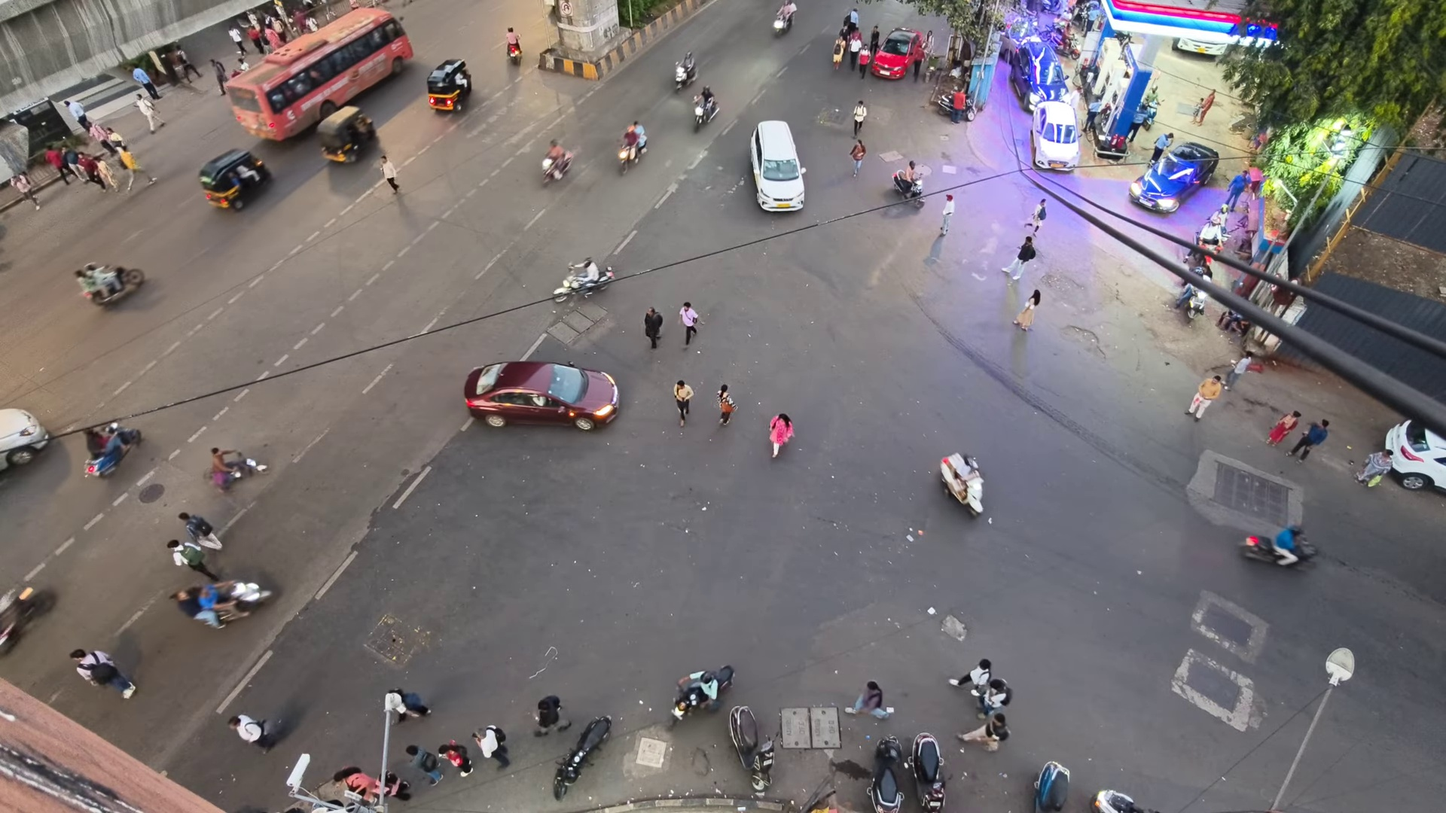walking: (70, 649, 136, 698), (167, 540, 219, 581), (172, 589, 224, 628), (958, 714, 1008, 751), (1287, 419, 1329, 461), (228, 714, 273, 753), (844, 681, 889, 719), (1186, 375, 1222, 420), (178, 512, 221, 549), (972, 678, 1011, 718), (473, 726, 509, 769), (120, 147, 156, 190), (404, 744, 442, 784), (384, 690, 430, 723), (1002, 236, 1035, 280), (534, 696, 571, 735), (44, 145, 78, 185), (1356, 449, 1392, 486), (438, 740, 473, 776), (948, 659, 991, 687), (134, 93, 164, 132), (76, 153, 107, 190), (1268, 411, 1301, 445), (1013, 289, 1040, 330), (1225, 350, 1252, 389), (11, 173, 40, 209), (770, 413, 793, 457), (172, 47, 200, 83), (87, 123, 117, 155), (673, 379, 693, 426), (679, 302, 700, 346), (1225, 170, 1248, 210), (133, 66, 160, 99), (644, 307, 663, 349), (64, 100, 90, 129), (95, 156, 117, 190), (717, 385, 735, 425), (1194, 90, 1215, 124), (1127, 105, 1146, 142), (1026, 199, 1046, 234), (380, 155, 398, 193), (1084, 98, 1103, 133), (1151, 132, 1172, 163), (210, 59, 227, 95), (850, 139, 866, 177), (228, 23, 246, 55), (941, 194, 955, 234), (853, 99, 867, 138), (950, 89, 966, 123), (832, 35, 847, 69), (849, 29, 862, 68), (247, 25, 264, 54), (858, 47, 871, 79), (869, 25, 881, 53)
